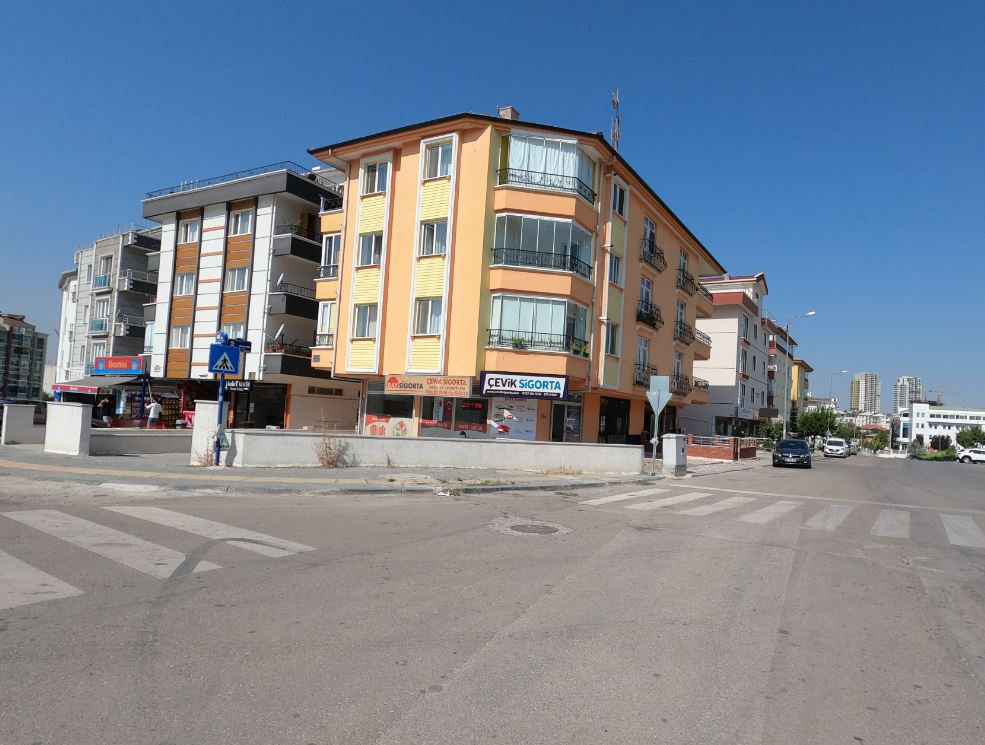Yaya Gecidi: (209, 344, 241, 374)
